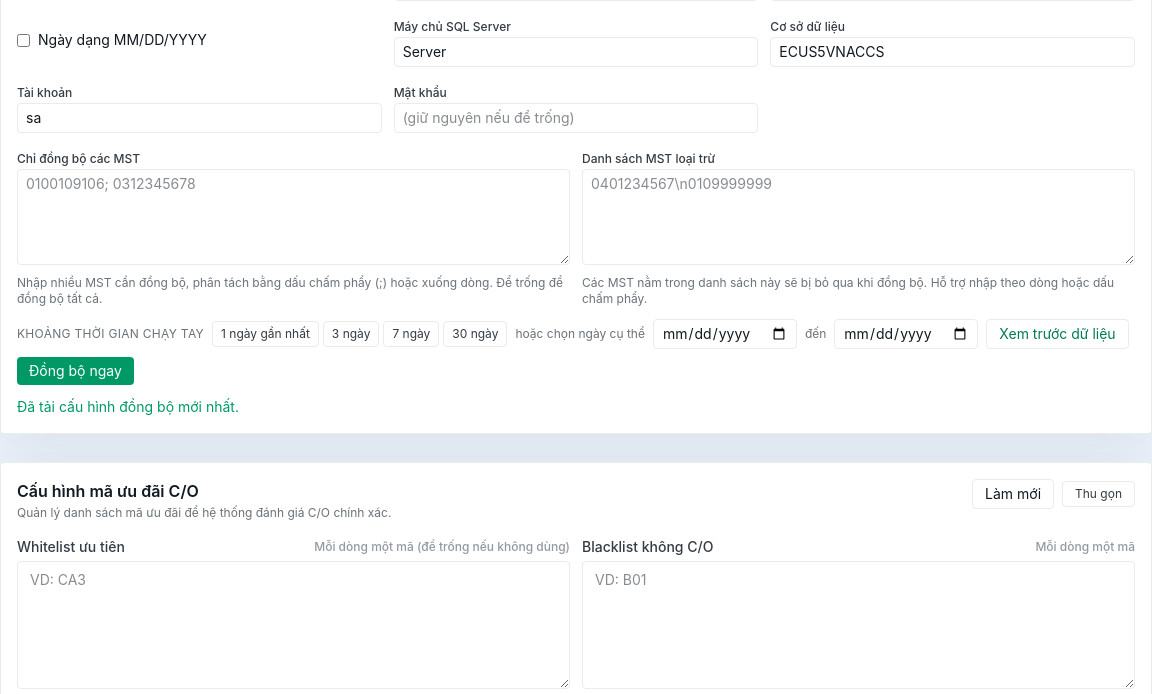
Test case: DataImporter preview UI › hiển thị bảng xem trước với trạng thái và dữ liệu mô phỏng ECUS
(page scrolled)
Click the button "Xem trước dữ liệu": (1057, 334) [986, 319, 1129, 349]
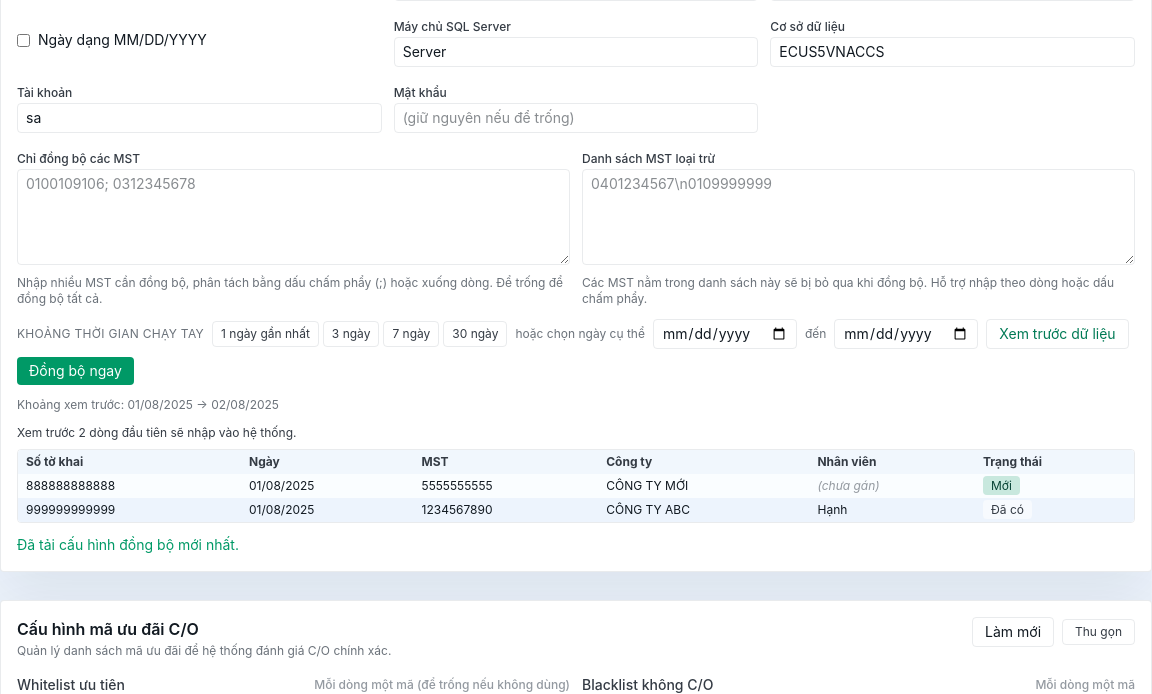
Now the text "CÔNG TY MỚI" is shown, box [598, 474, 809, 498]
Now the text "CÔNG TY ABC" is shown, box [598, 498, 809, 522]
Now the text "Mới" is shown, box [983, 476, 1020, 495]
